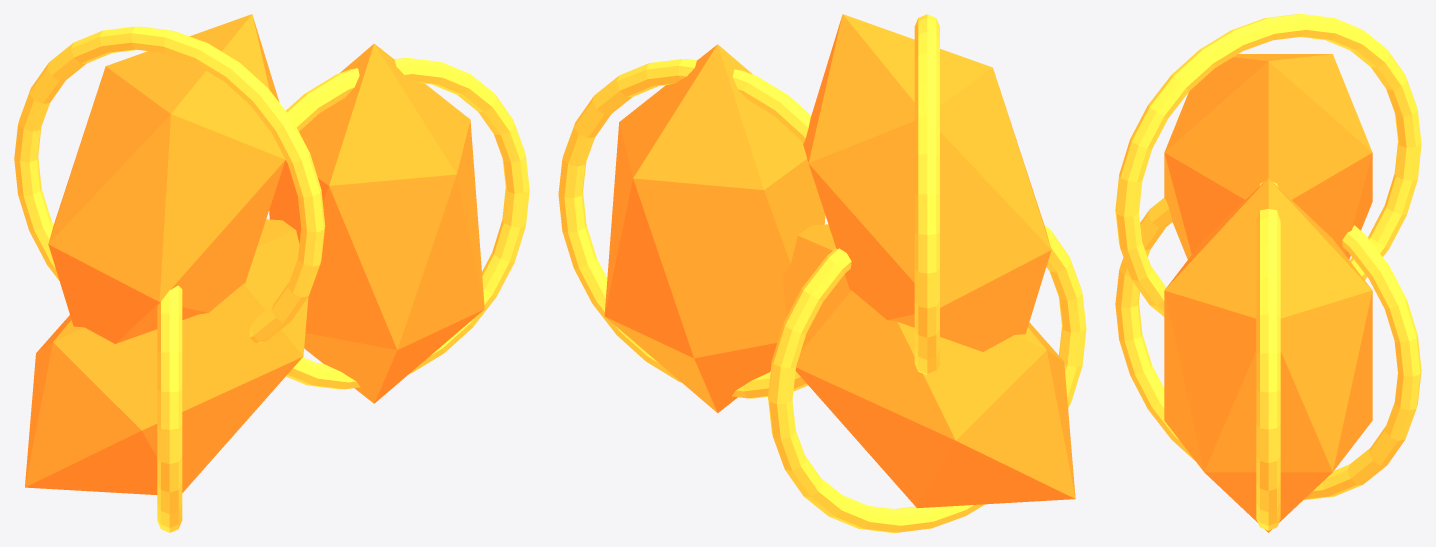
Rendered from elemental_essences.glb.
The picture shows the model from 3 angles, left to right: view 1: azimuth 30°, elevation 25°; view 2: azimuth 150°, elevation 25°; view 3: azimuth 270°, elevation 25°; orthographic projection. The views are drawn at different scales.
Parts seen in each view (by area): view 1: Mana_01, Mana_00, Mana_02, Torus.017, Torus.016, Torus.018; view 2: Mana_00, Mana_01, Mana_02, Torus.018, Torus.016, Torus.017; view 3: Mana_00, Mana_01, Torus.017, Torus.018, Torus.016.
Part boxes in pixels (box(x1,y1,x2,y2)): Mana_01: box(48, 14, 285, 343); Mana_00: box(269, 43, 484, 403); Mana_02: box(25, 219, 308, 494); Torus.017: box(14, 26, 325, 343); Torus.016: box(286, 58, 529, 389); Torus.018: box(157, 285, 182, 532); Mana_00: box(604, 44, 825, 413); Mana_01: box(803, 14, 1051, 351); Mana_02: box(783, 224, 1075, 508); Torus.018: box(768, 225, 1086, 532); Torus.016: box(558, 59, 810, 398); Torus.017: box(914, 14, 939, 375); Mana_00: box(1164, 178, 1372, 532); Mana_01: box(1164, 54, 1372, 259); Torus.017: box(1115, 14, 1421, 316); Torus.018: box(1115, 198, 1421, 500); Torus.016: box(1256, 182, 1280, 530).
Bounding box in the file's own units: 1.4 × 1.29 × 0.7508.
